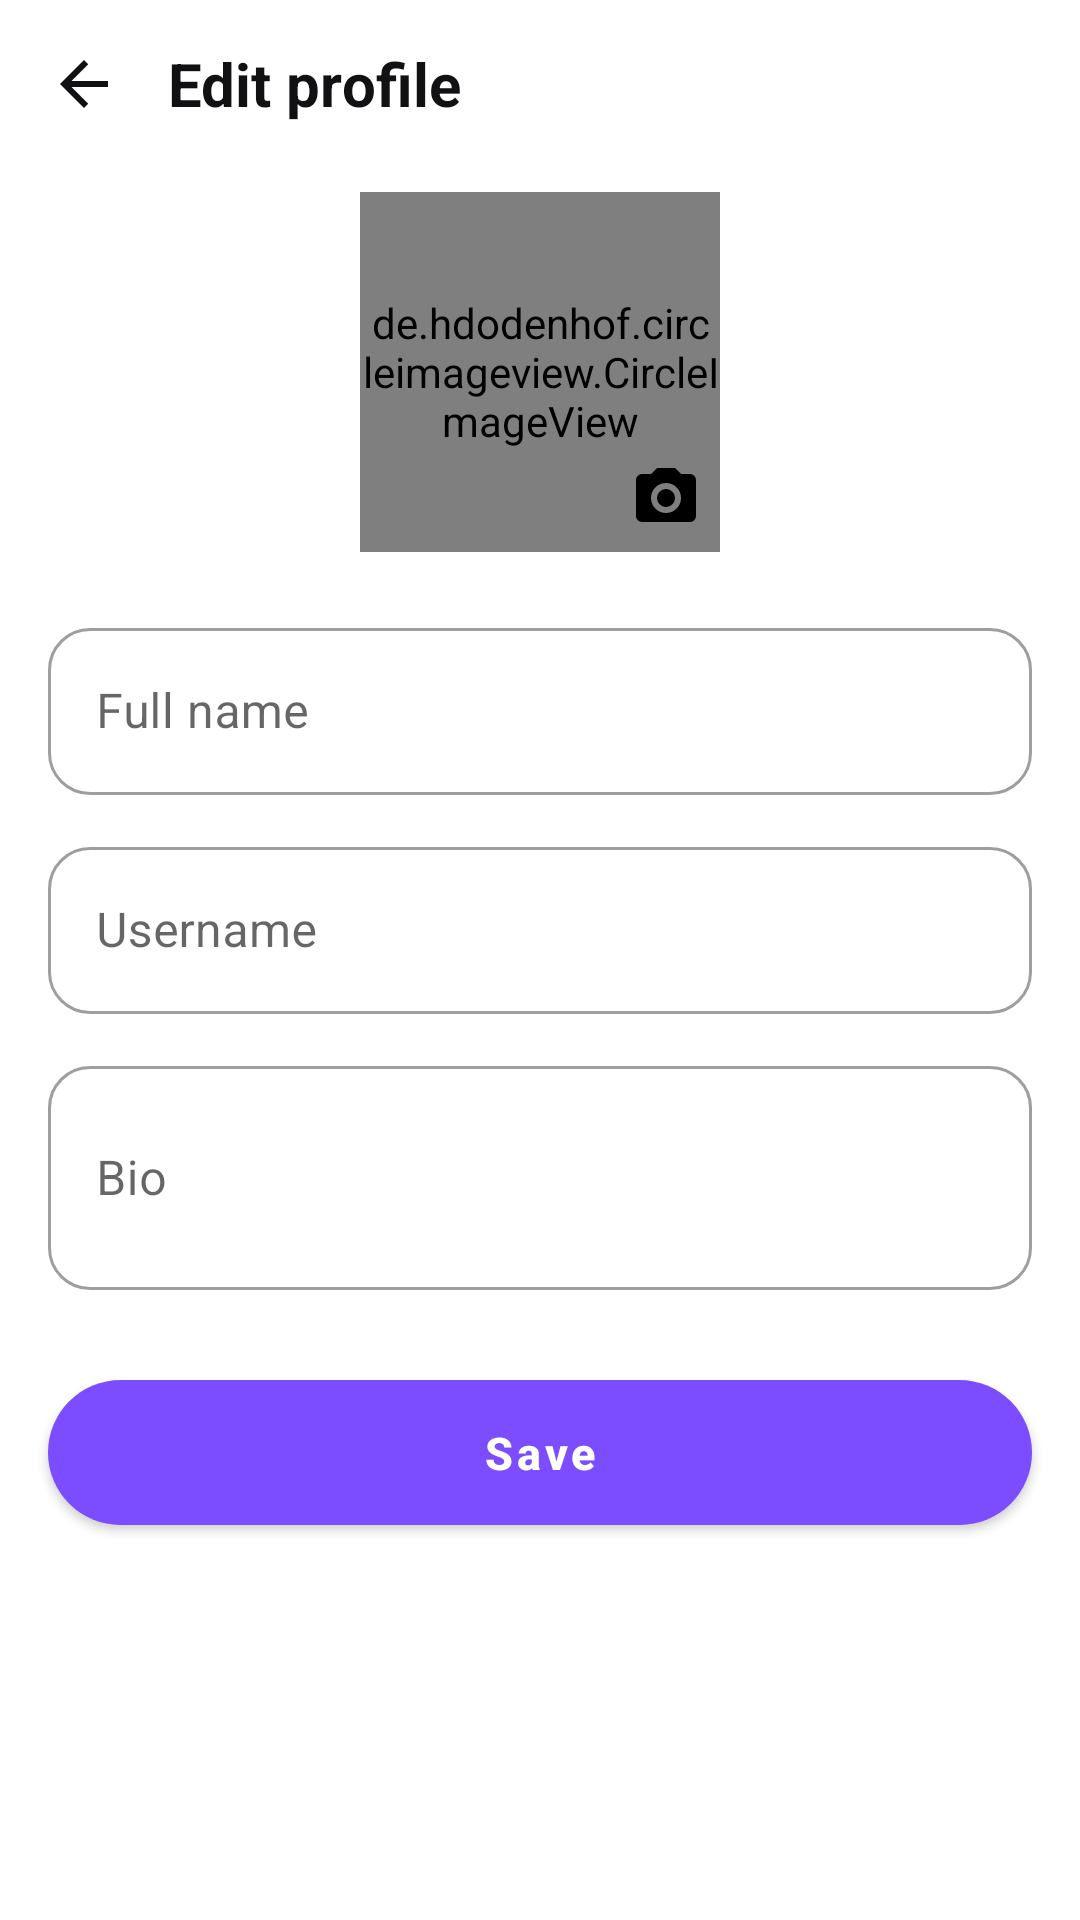

Named icons in this screenshot (1080px×1920px) and their bounding boxes, (x1=x1, y1=y1, x2=x2, y2=y2):
back: (x1=60, y1=60, x2=108, y2=108)
pick avatar: (x1=636, y1=468, x2=696, y2=522)
